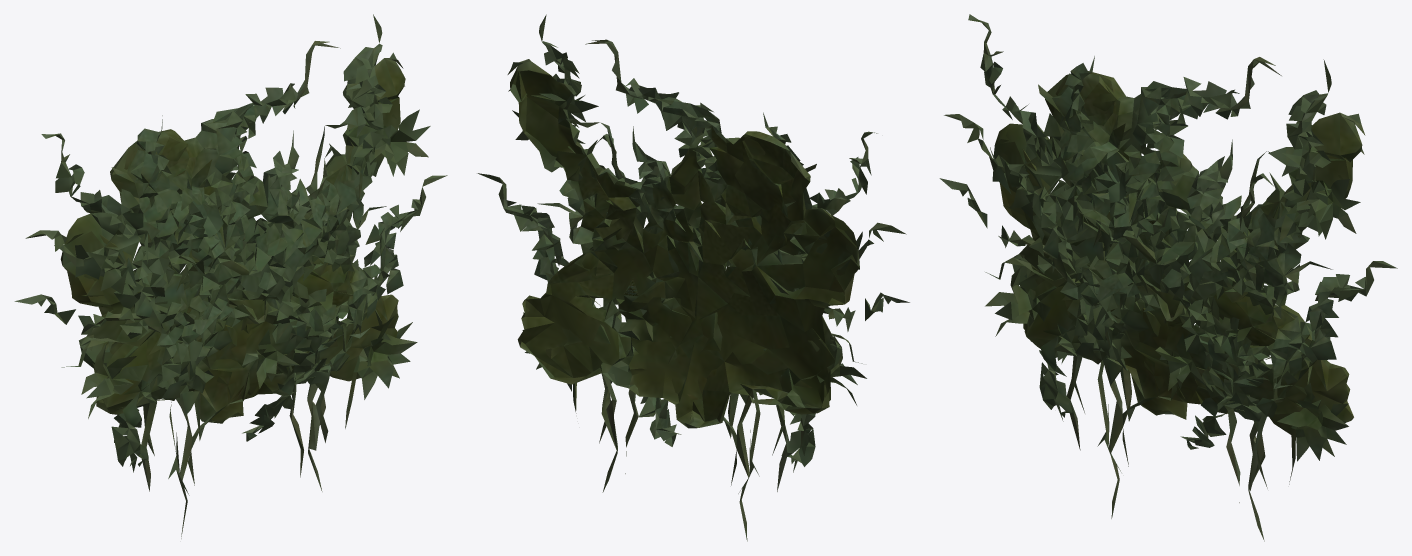
The model's file is sp_m_ivy.glb.
3 views of the same model, side by side, from view 1: azimuth 30°, elevation 25°; view 2: azimuth 150°, elevation 25°; view 3: azimuth 330°, elevation 25° (orthographic). The views are drawn at different scales.
Parts seen in each view (by area): view 1: Mesh_0; view 2: Mesh_0; view 3: Mesh_0.
Boxes of the visible parts, box(x1,y1,x2,y2) form: Mesh_0: box(14, 14, 447, 538); Mesh_0: box(477, 14, 909, 541); Mesh_0: box(939, 14, 1397, 541).
Size of the model in its own units: 1.77 by 1.87 by 0.2003.
1 material, 1 textured.
